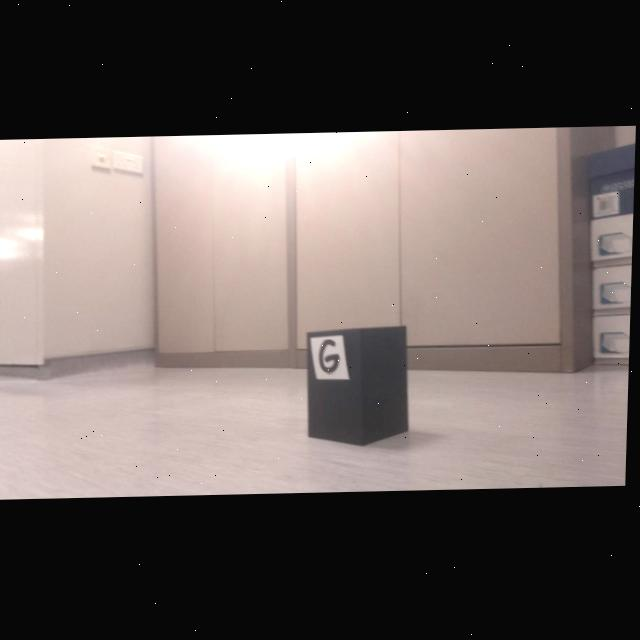G: (321, 341, 341, 375)
